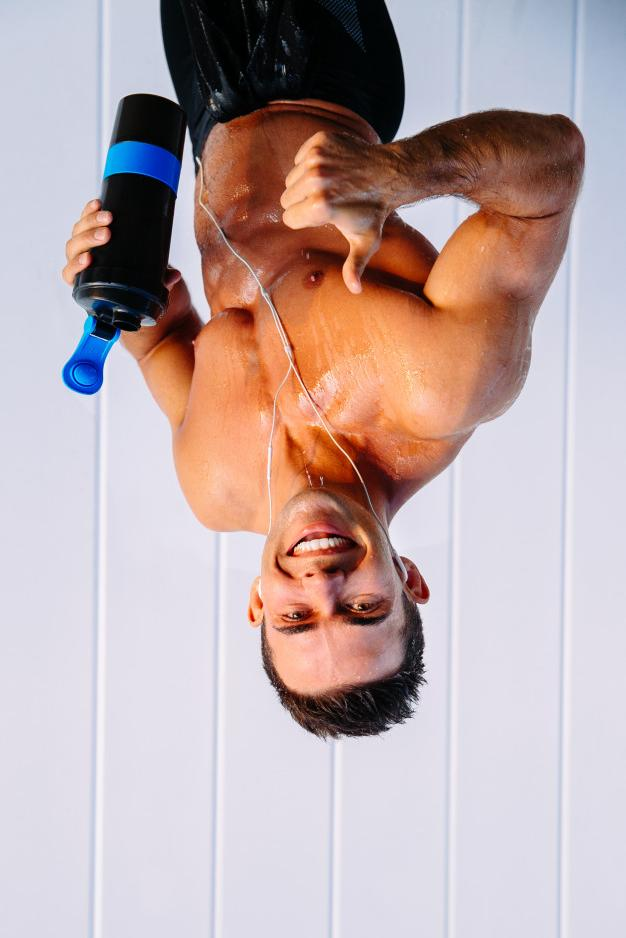thumbsdown: (279, 129, 370, 296)
